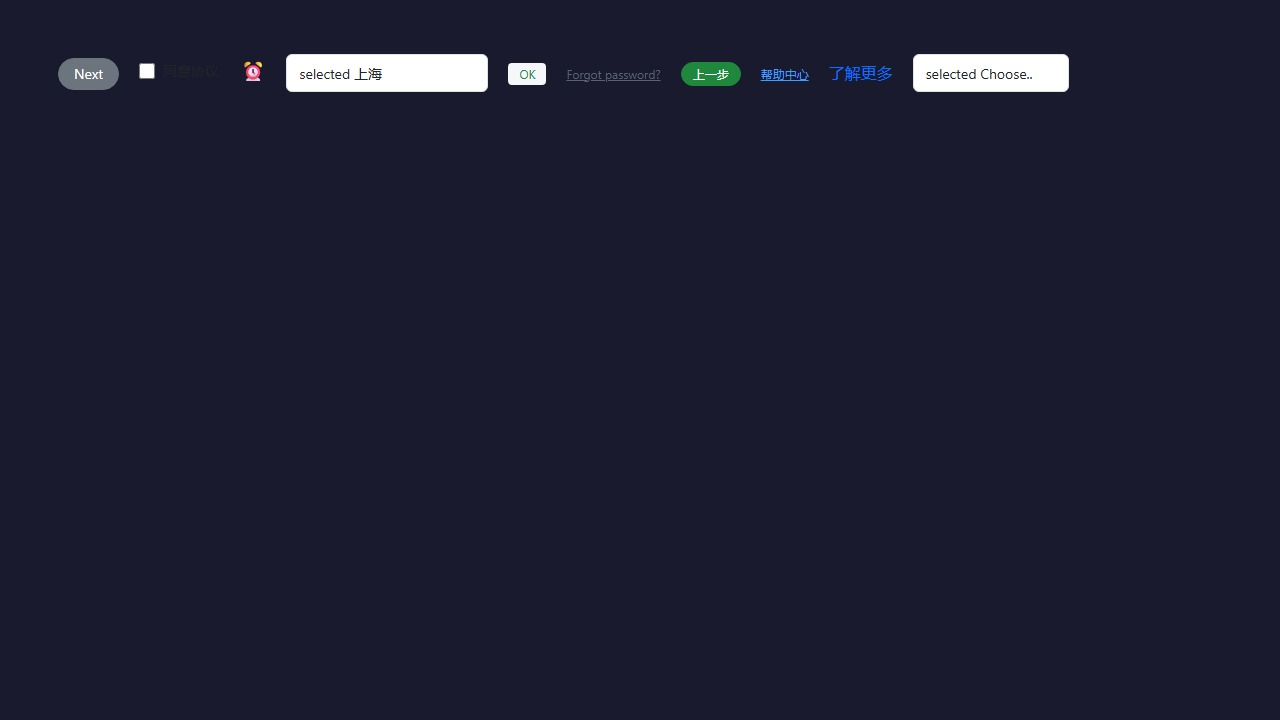button: (58, 57, 119, 89), (681, 61, 741, 85), (508, 62, 546, 84)
checkbox: (139, 63, 155, 79)
icon: (163, 61, 219, 80), (239, 61, 266, 81)
link: (566, 65, 661, 81), (829, 61, 893, 83), (761, 65, 809, 81)
radio: (139, 61, 219, 80)
select: (286, 54, 488, 92), (913, 54, 1069, 92)
